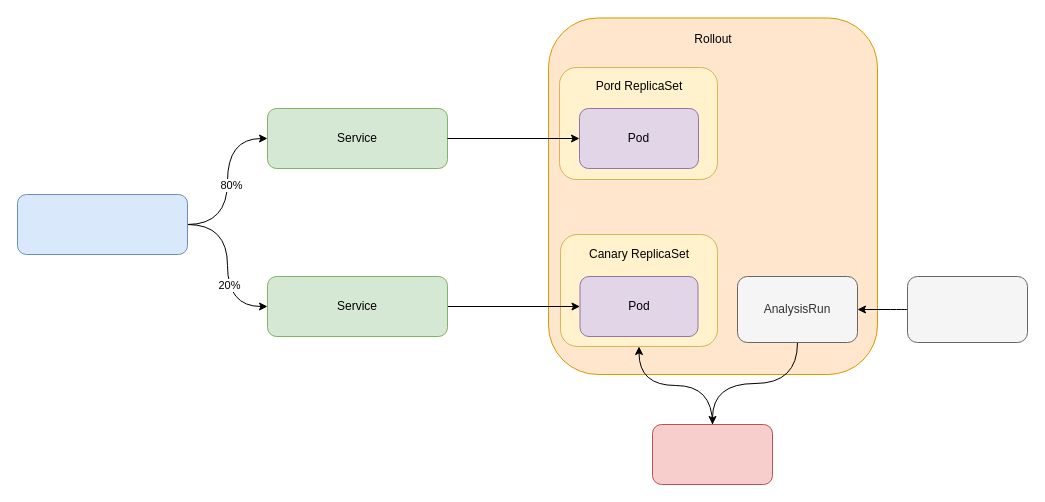
Image size: 1045x502. Some labels were removed from this diagram. Here are the shapes that lost their labels. From the top down, the centre of each, then its label:
At pixel 102 224: "Ingress-Nginx".
At pixel 967 309: "Analysis Template".
At pixel 712 454: "Prometheus".
